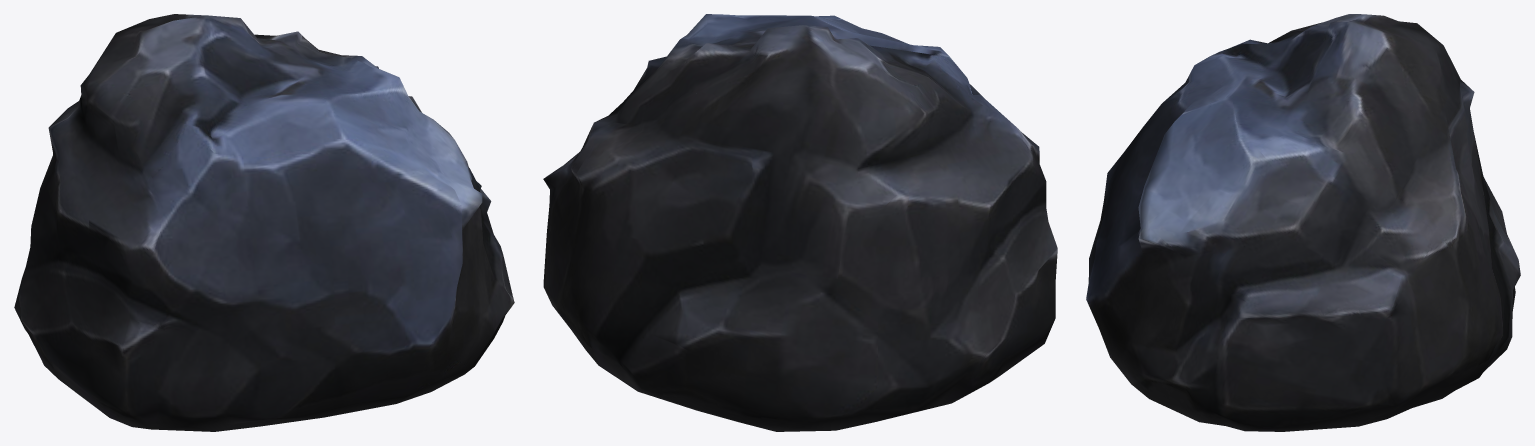
Rendered from coal.glb.
The picture shows the model from 3 angles, left to right: view 1: azimuth 30°, elevation 25°; view 2: azimuth 150°, elevation 25°; view 3: azimuth 270°, elevation 25°; orthographic projection. The views are drawn at different scales.
Parts seen in each view (by area): view 1: coal; view 2: coal; view 3: coal.
Part boxes in pixels (bbox=[...]): coal: bbox=[14, 14, 514, 431]; coal: bbox=[543, 14, 1057, 431]; coal: bbox=[1086, 14, 1520, 431].
Size of the model in its own units: 1 by 0.7728 by 0.9439.
Materials: 1 (1 with a texture image).
